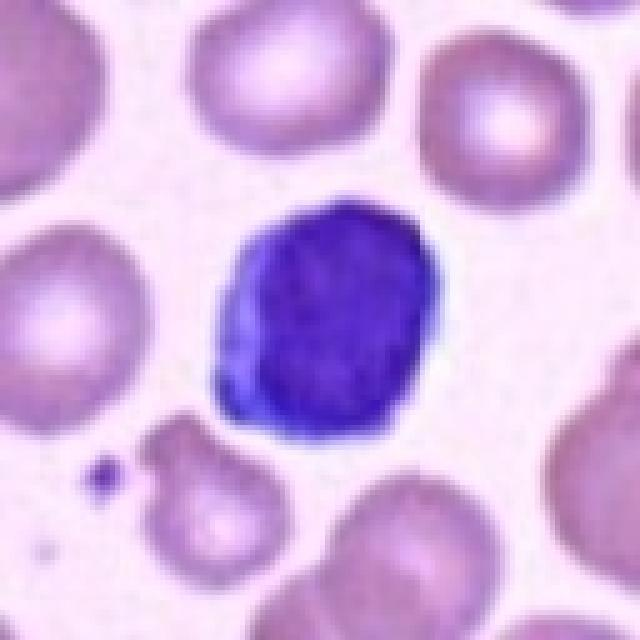lympho: (206, 194, 448, 448)
